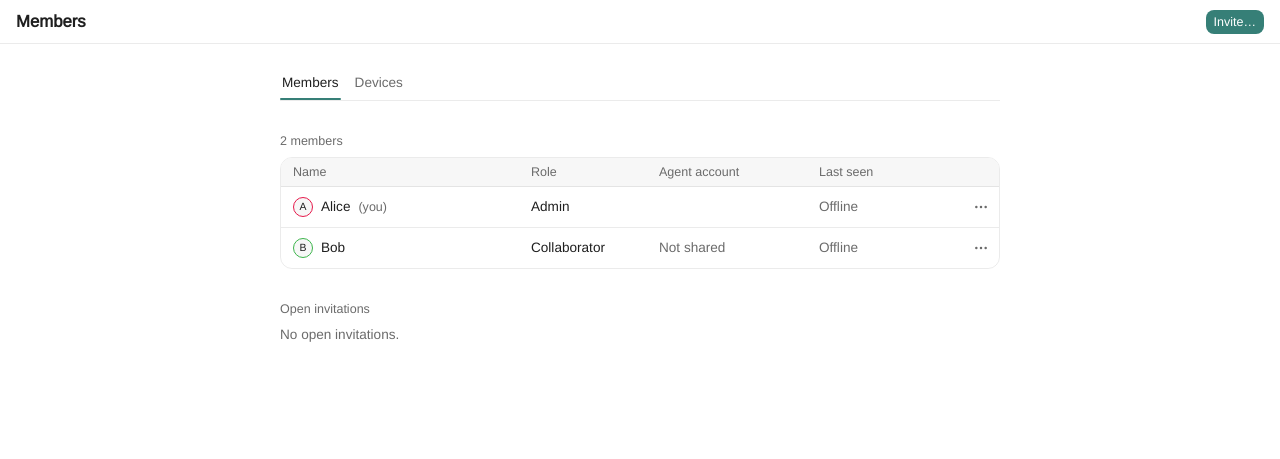
members page › takes a refused role change back and renders the server refusal verbatim
Press Enter
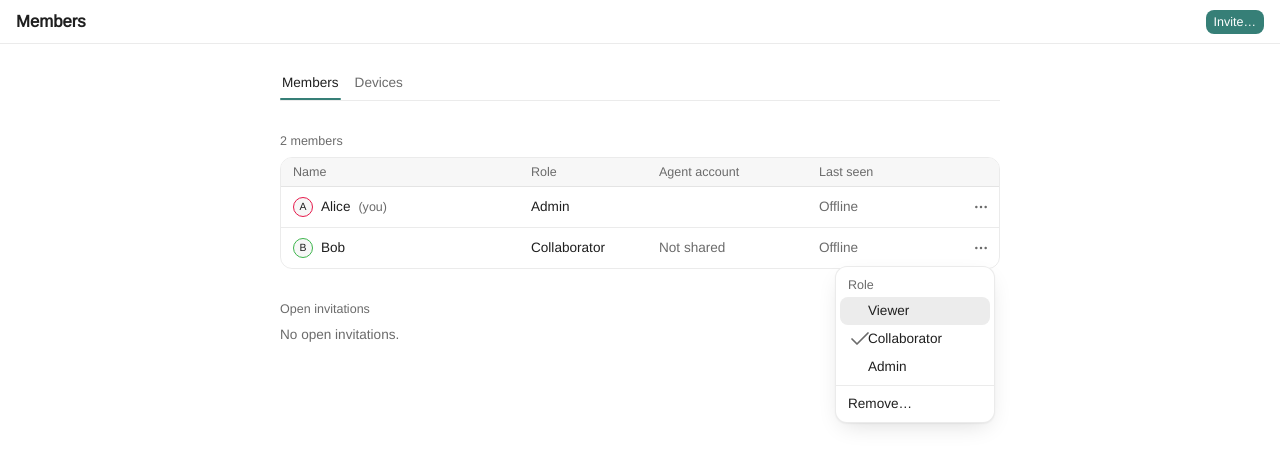
Click the 1st menu item named "Viewer". click: (915, 311)
box: [840,297,990,325]
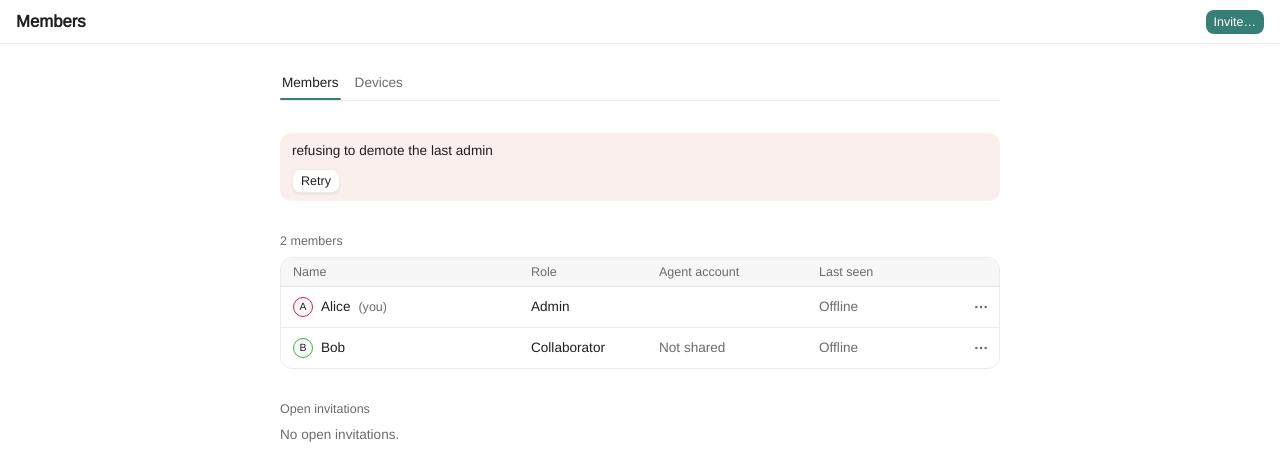
Expected: the 7th text "Collaborator" is shown, [531,339,605,356]
Result: the 1st text "refusing to demote the last admin" is shown at [292,142,493,159]
